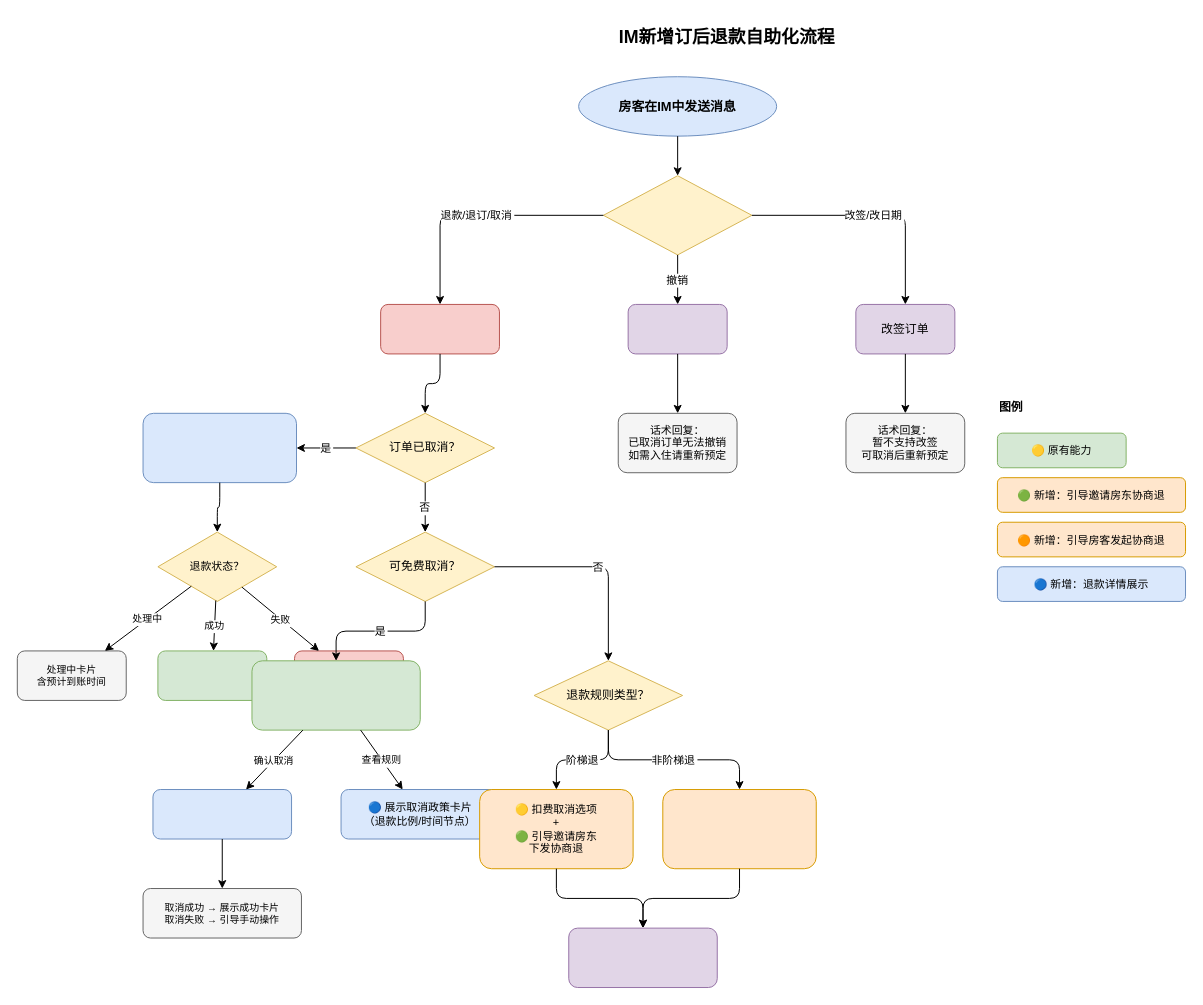
Image size: 1203x1005. Some labels were removed from this diagram. The centre of each missing label's shape, as x and y in pixels:
"协商退流程 房东同意/拒绝 → 通知房客" goes at point (642, 957).
"意图识别" goes at point (677, 215).
"撤销取消" goes at point (677, 328).
"调用取消订单API" goes at point (222, 814).
"退款成功卡片 含到账时间" goes at point (212, 675).
"退款退订" goes at point (439, 328).
"🔵 展示退款详情卡片 （退款金额/状态/ 预计到账时间）" goes at point (219, 447).
"🟡 展示取消确认卡片 「确认取消」/「查看规则」 /「暂不取消」" goes at point (335, 695).
"🟡 扣费取消选项 + 🟠 引导房客 主动发起协商退" goes at point (739, 829).
